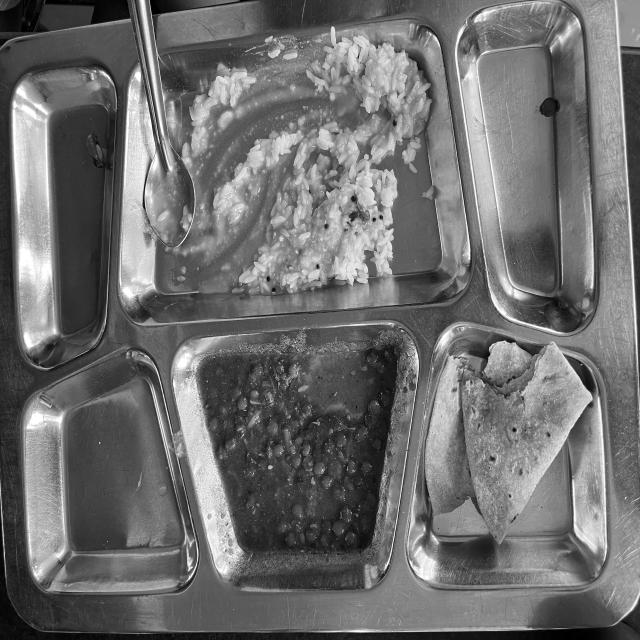20-Food-Left: (6, 40, 640, 608)
